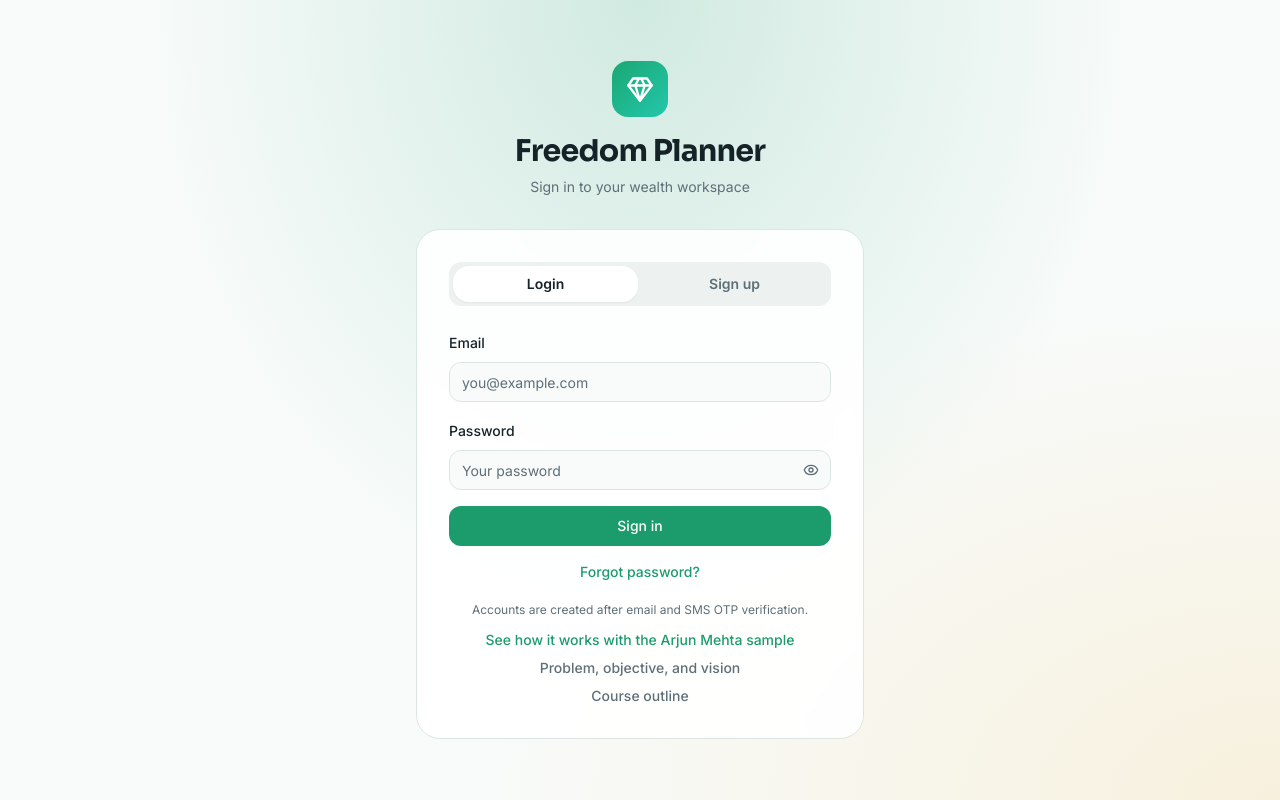
Test case: Login signup OTP auto-verify › lists ISO countries in the signup country picker
Click the button "Sign up". click: (734, 284)
box: [642, 266, 827, 302]
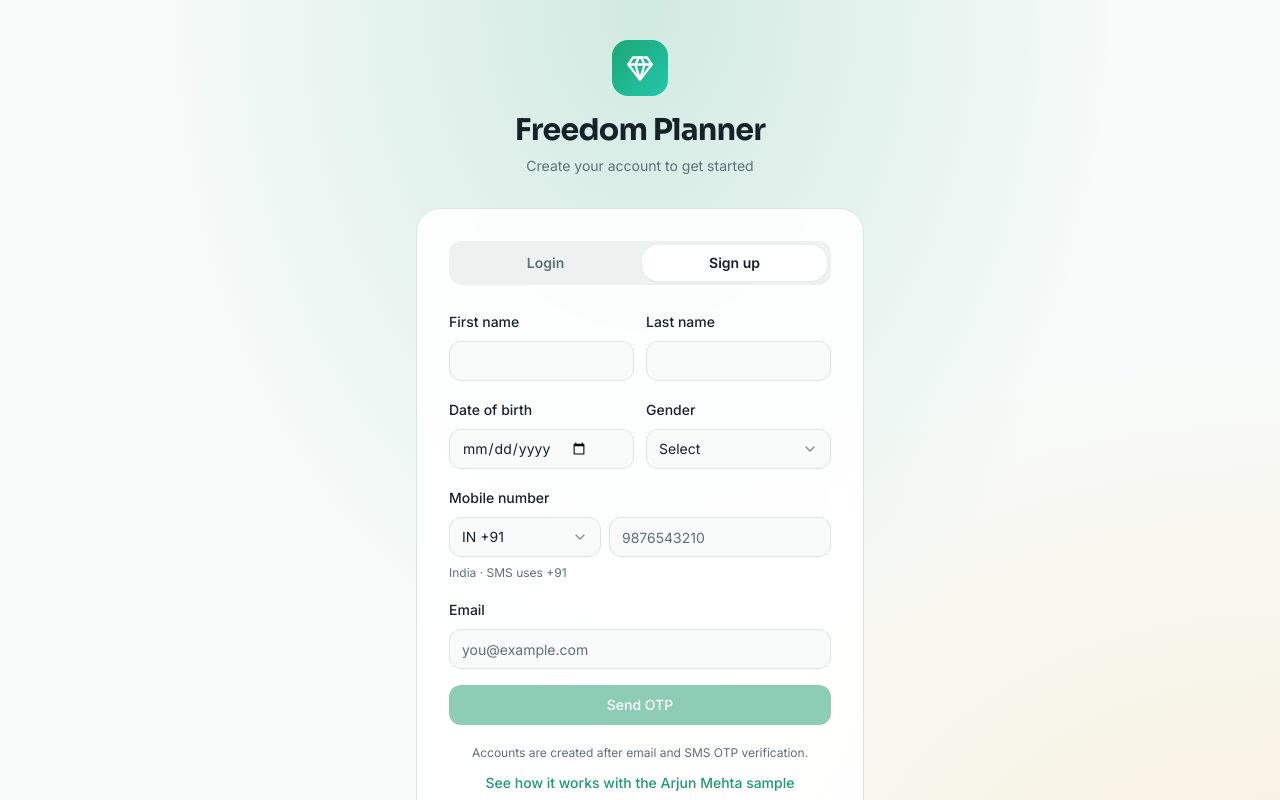
Click the dropdown named "Country ISD code". click: (525, 537)
box: [449, 517, 601, 557]
(page scrolled)
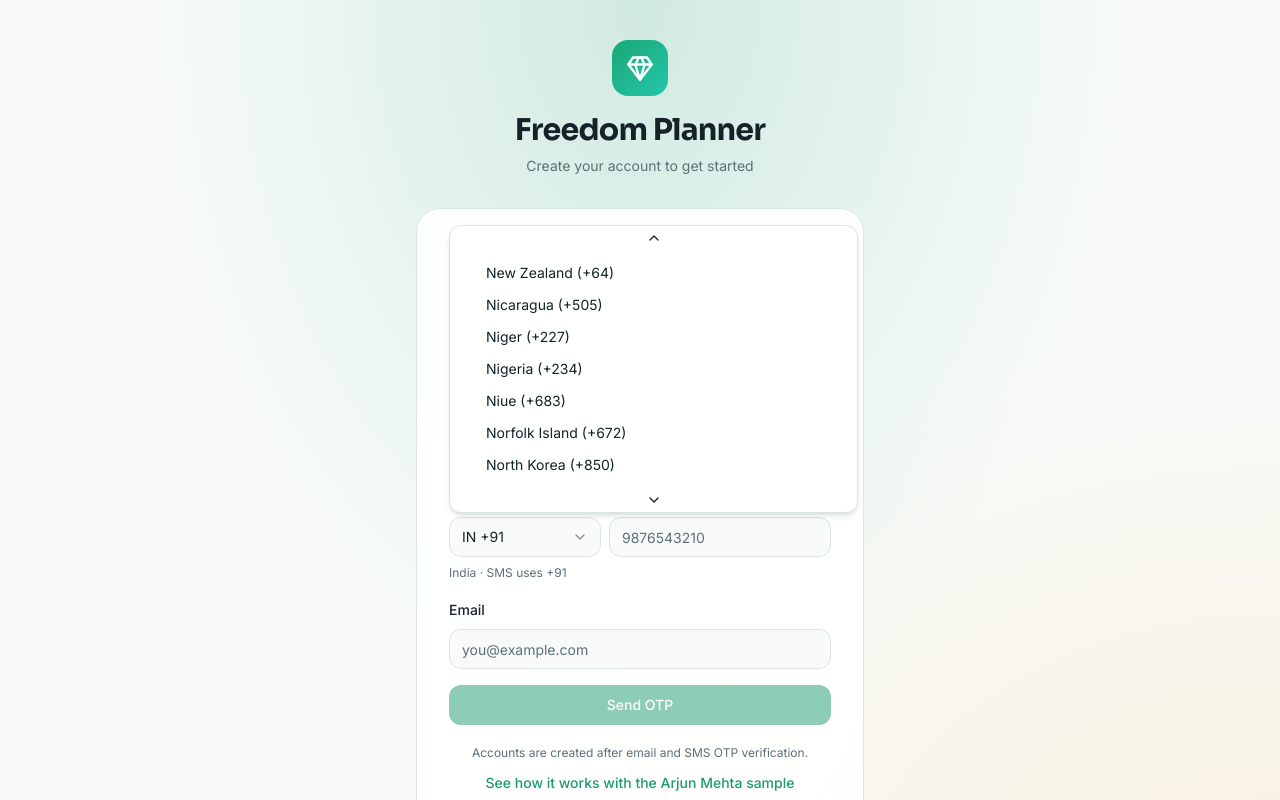
Expected: the option "Nigeria (+234)" is shown, [486, 360, 582, 377]
